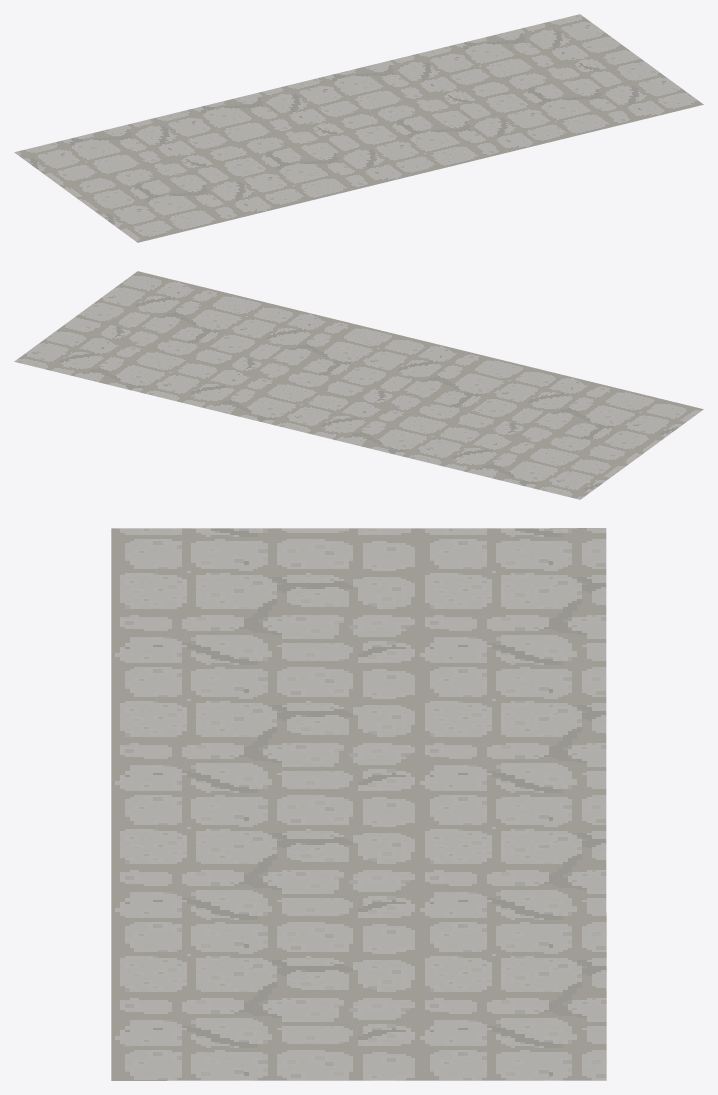
The model's file is kd_stage_1363c5_9_27_bounded.glb.
3 views of the same model, one above another, from view 1: azimuth 30°, elevation 25°; view 2: azimuth 150°, elevation 25°; view 3: azimuth 270°, elevation 25° (orthographic). The views are drawn at different scales.
Parts seen in each view (by area): view 1: kd_stage_1363c5_9_27_bounded; view 2: kd_stage_1363c5_9_27_bounded; view 3: kd_stage_1363c5_9_27_bounded.
Boxes of the visible parts, <box> form: kd_stage_1363c5_9_27_bounded: <box>14,14,703,242</box>; kd_stage_1363c5_9_27_bounded: <box>14,271,703,499</box>; kd_stage_1363c5_9_27_bounded: <box>111,528,606,1080</box>.
Size of the model in its own units: 3.94 by 0 by 1.49.
1 material, 1 textured.
